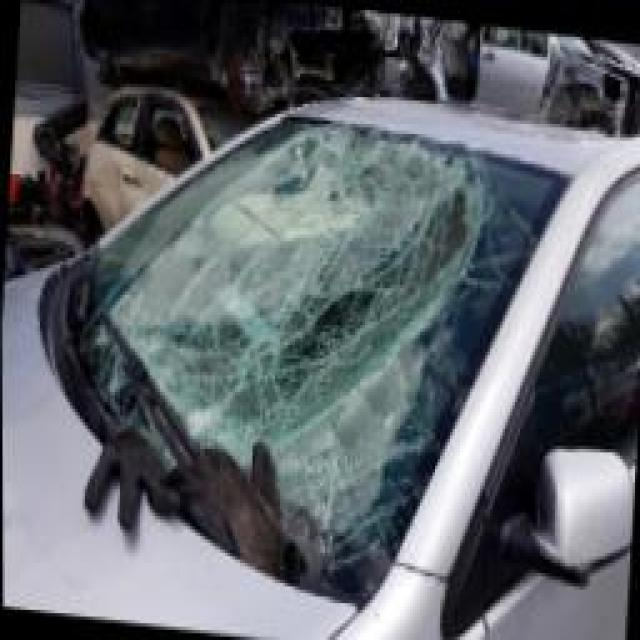Windshield: (52, 87, 517, 550)
